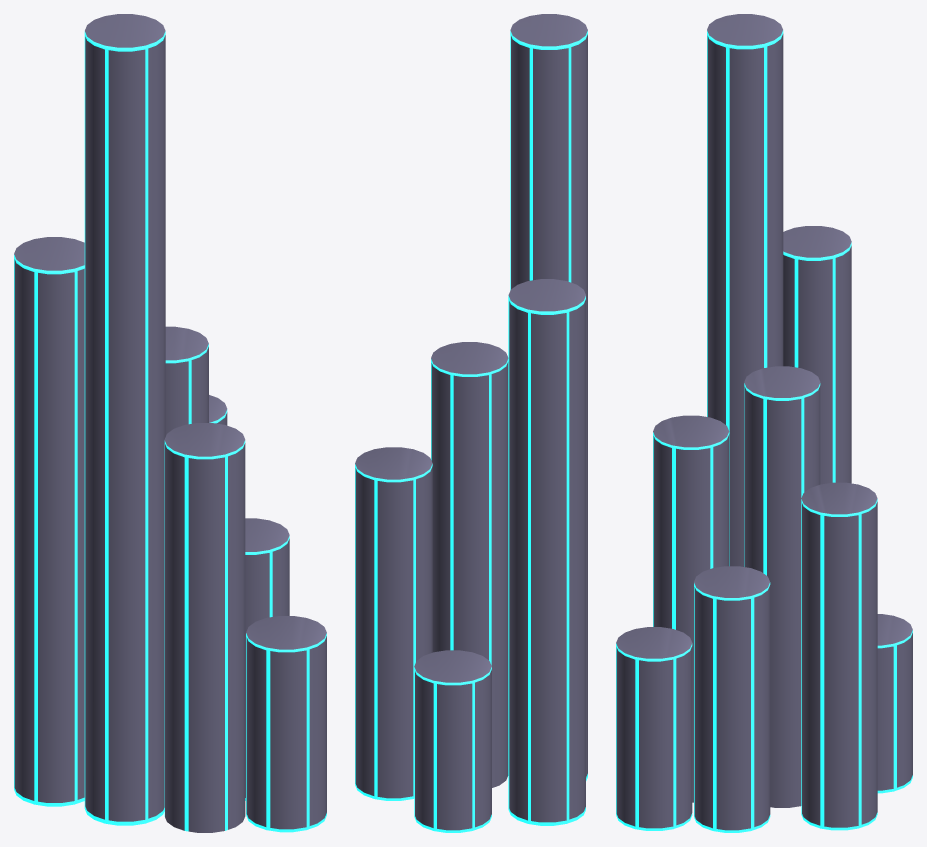
Rendered from Stalactite.fbx.
The picture shows the model from 3 angles, left to right: view 1: azimuth 30°, elevation 25°; view 2: azimuth 150°, elevation 25°; view 3: azimuth 270°, elevation 25°; orthographic projection. The views are drawn at different scales.
Parts seen in each view (by area): view 1: Kazan; view 2: Kazan; view 3: Kazan.
Boxes of the visible parts, x1,y1,x2,y2 form: Kazan: (14,14,326,832); Kazan: (355,14,587,832); Kazan: (616,14,912,832).
Bounding box in the file's own units: 0.6561 × 2.21 × 0.8101.
